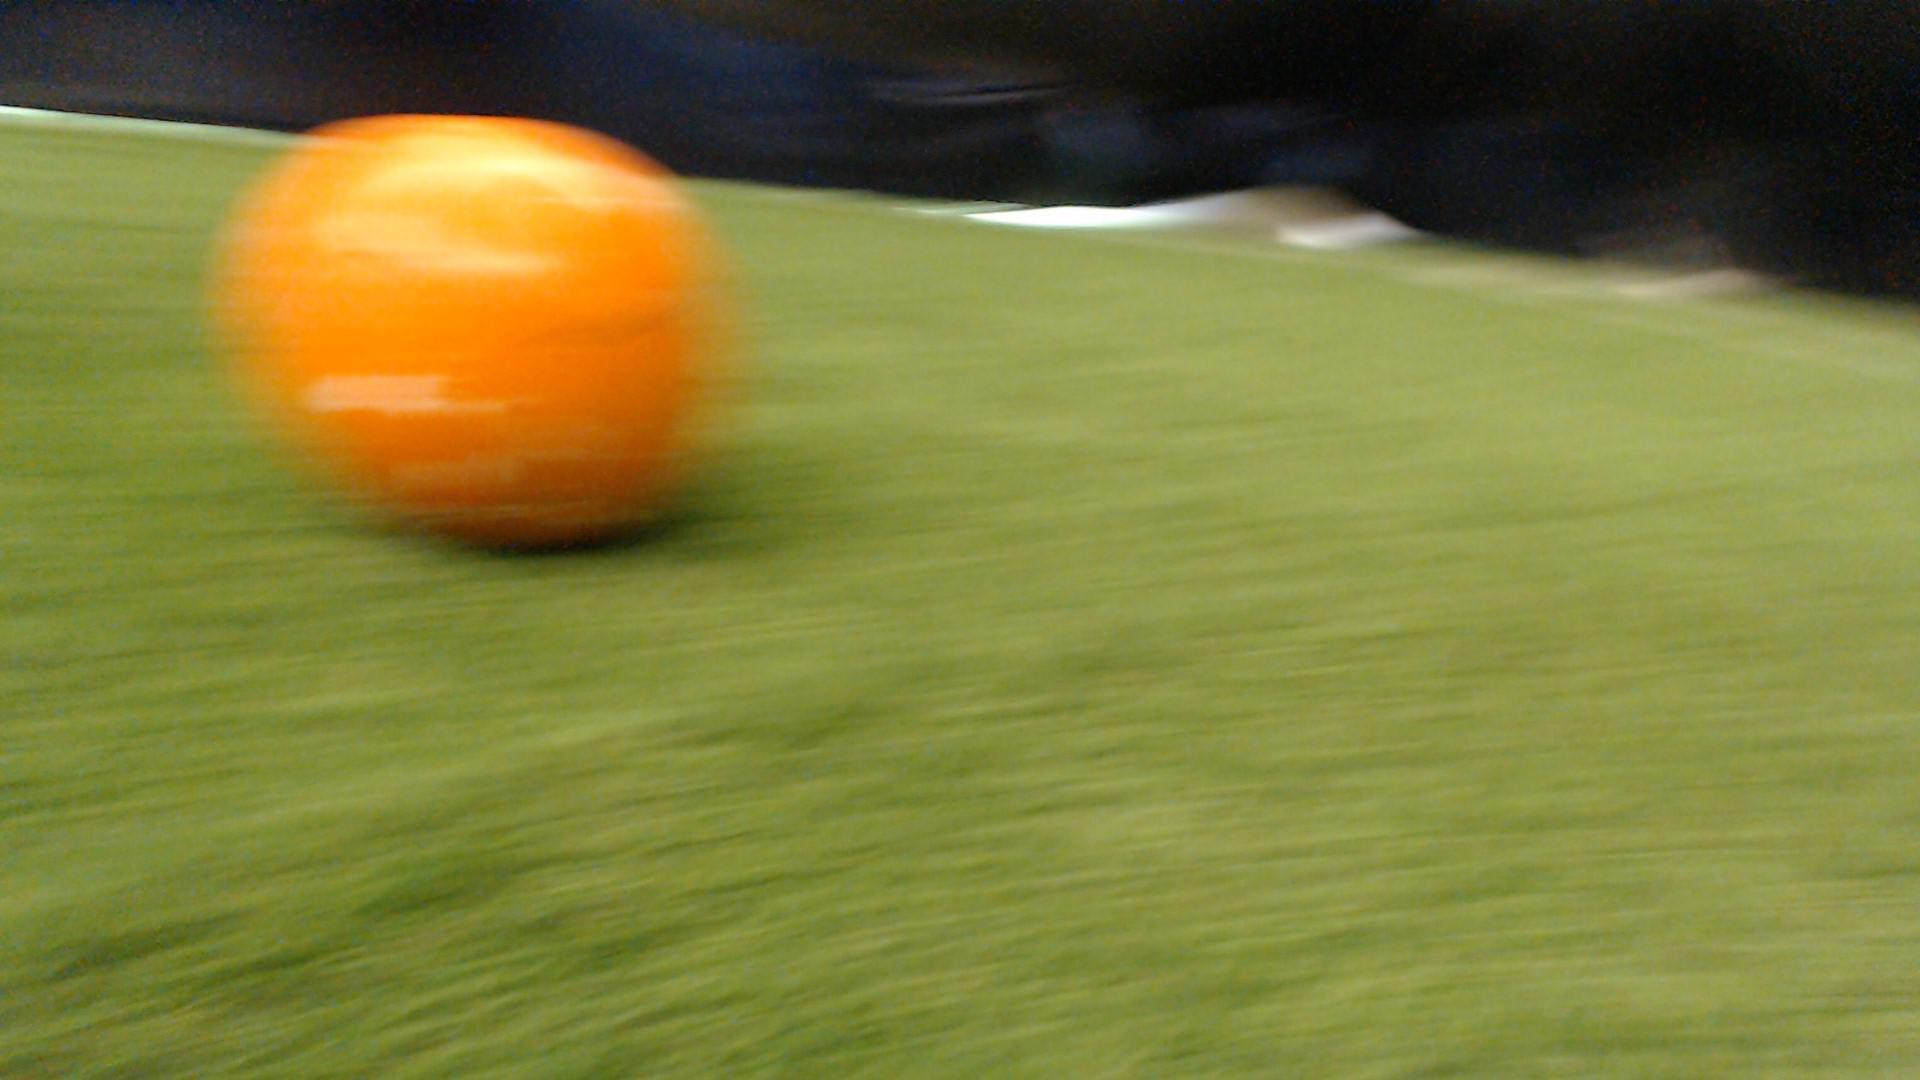bola: (185, 88, 781, 566)
